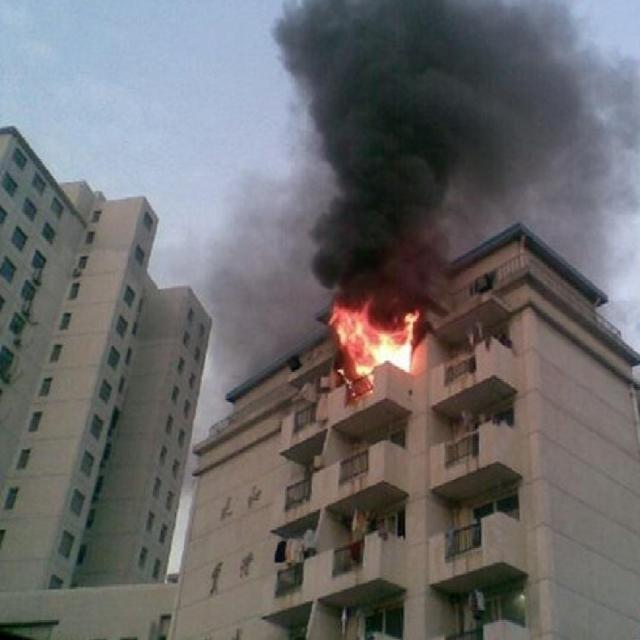Fire: (328, 296, 420, 398)
Smoke: (210, 2, 640, 290), (216, 291, 322, 374)
